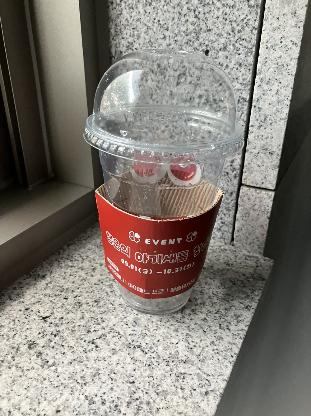Plastic Cup: (82, 39, 237, 345)
